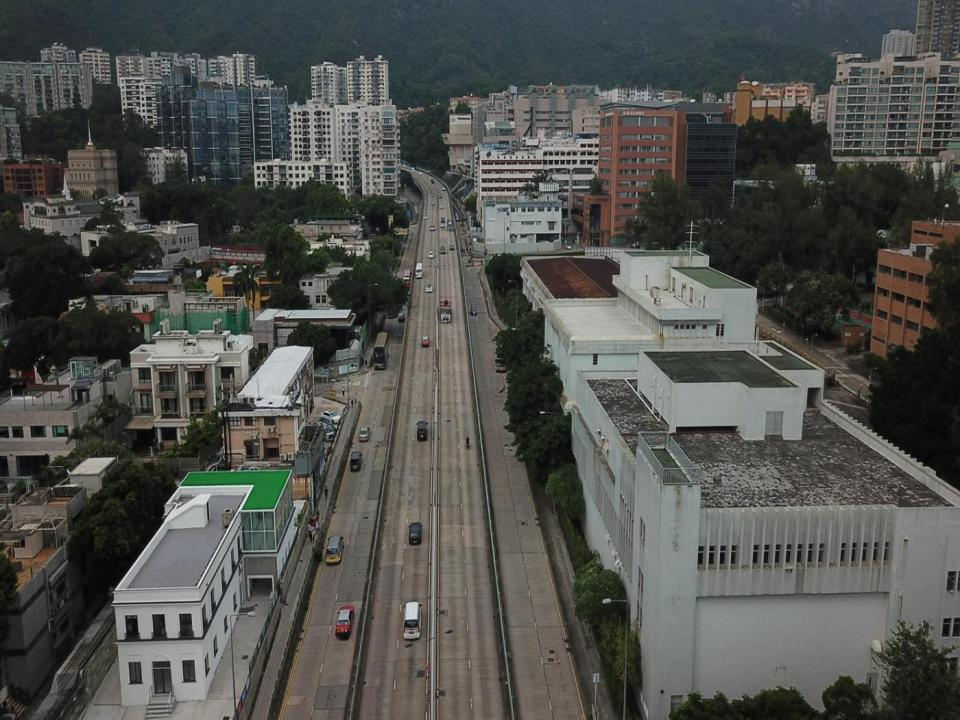bus: (373, 332, 389, 368), (495, 345, 507, 372), (402, 270, 412, 288), (416, 262, 423, 277)
car: (334, 606, 354, 637), (316, 418, 335, 434), (320, 410, 341, 424), (359, 427, 370, 441), (421, 336, 429, 346), (398, 312, 405, 322), (425, 284, 433, 292), (565, 242, 571, 250), (449, 242, 455, 250), (428, 250, 434, 258), (440, 246, 446, 253), (572, 237, 576, 245), (578, 229, 584, 234), (430, 225, 435, 230), (561, 232, 565, 238), (441, 221, 444, 228), (560, 236, 564, 241), (472, 238, 476, 243), (410, 166, 414, 170), (418, 171, 423, 174), (432, 200, 435, 205), (441, 218, 445, 221), (426, 176, 430, 179), (442, 186, 445, 190), (440, 205, 444, 208), (439, 193, 441, 198), (413, 169, 415, 172)
truck: (440, 300, 451, 324), (447, 218, 453, 232)
van: (402, 600, 422, 639), (326, 535, 345, 562), (314, 420, 334, 441), (409, 522, 422, 546), (416, 420, 428, 441), (350, 450, 362, 470), (470, 304, 478, 316), (422, 213, 428, 219), (431, 178, 434, 184), (431, 192, 434, 196)
